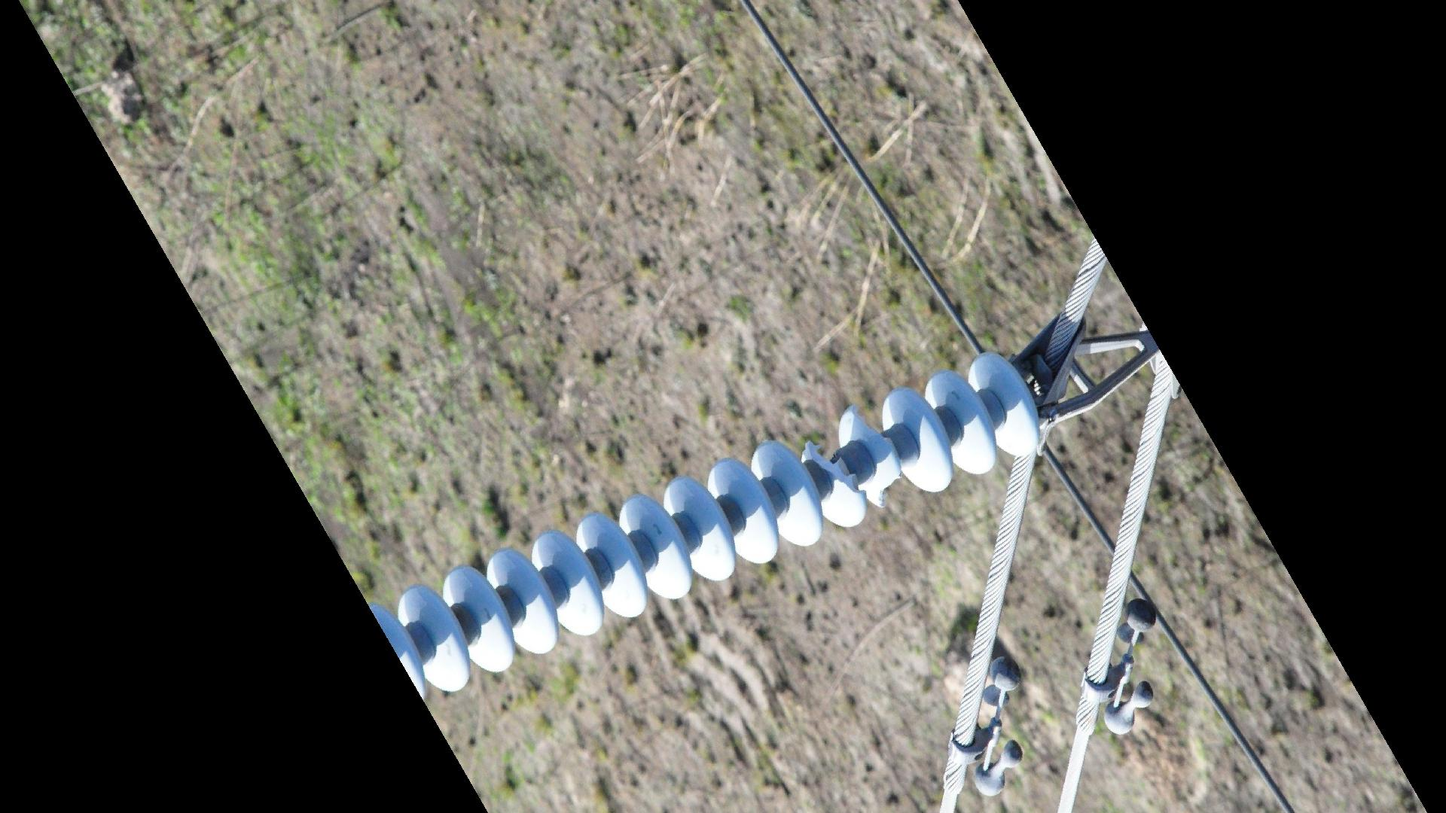insulator: (368, 343, 1047, 696)
insulator_breakage: (799, 434, 870, 506), (845, 399, 898, 446), (872, 470, 908, 512)
